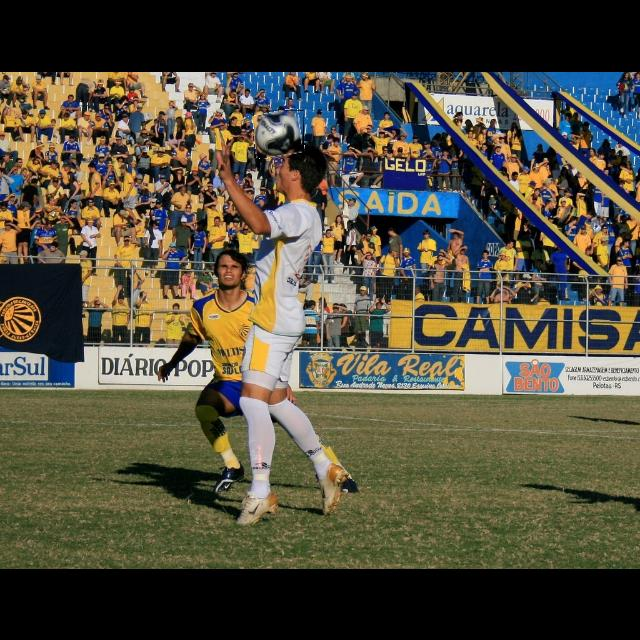Football: (254, 110, 304, 158)
